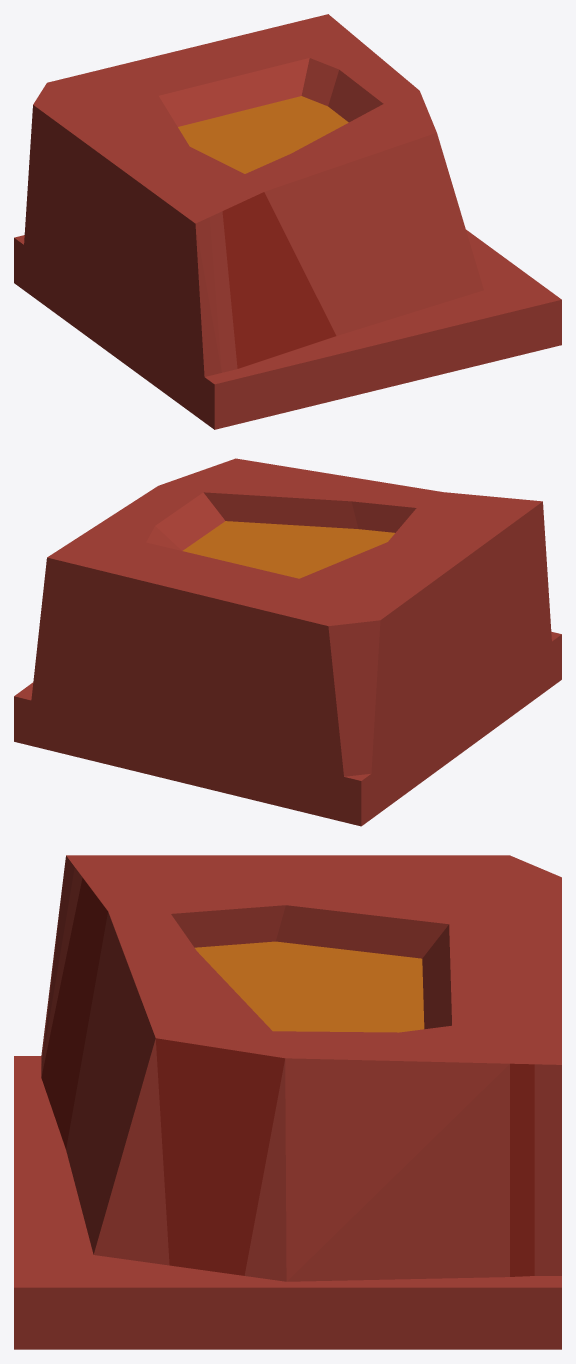
The model's file is Field_12_digged.fbx.
3 views of the same model, one above another, from view 1: azimuth 30°, elevation 25°; view 2: azimuth 150°, elevation 25°; view 3: azimuth 270°, elevation 25° (orthographic). The views are drawn at different scales.
Visible parts, largest first — view 1: Plane.026; view 2: Plane.026; view 3: Plane.026.
Boxes of the visible parts, <box> form: Plane.026: <box>14,14,561,429</box>; Plane.026: <box>14,458,561,826</box>; Plane.026: <box>14,855,561,1349</box>.
Size of the model in its own units: 400 by 212 by 400.
